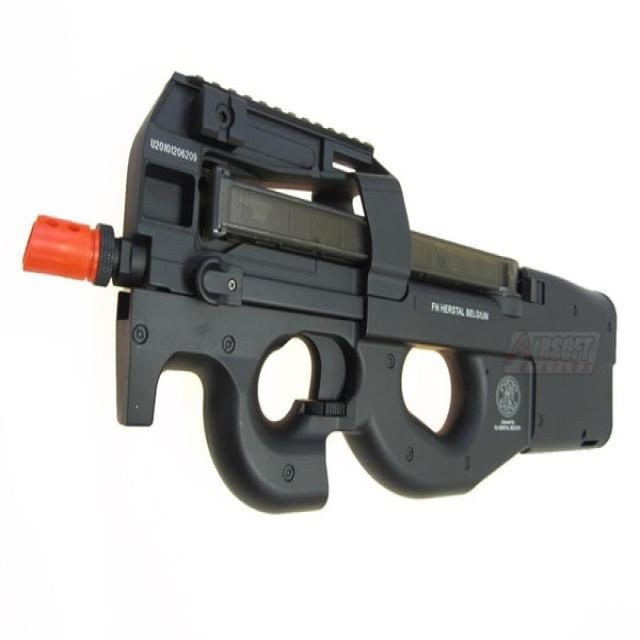SMG: (26, 73, 620, 516)
